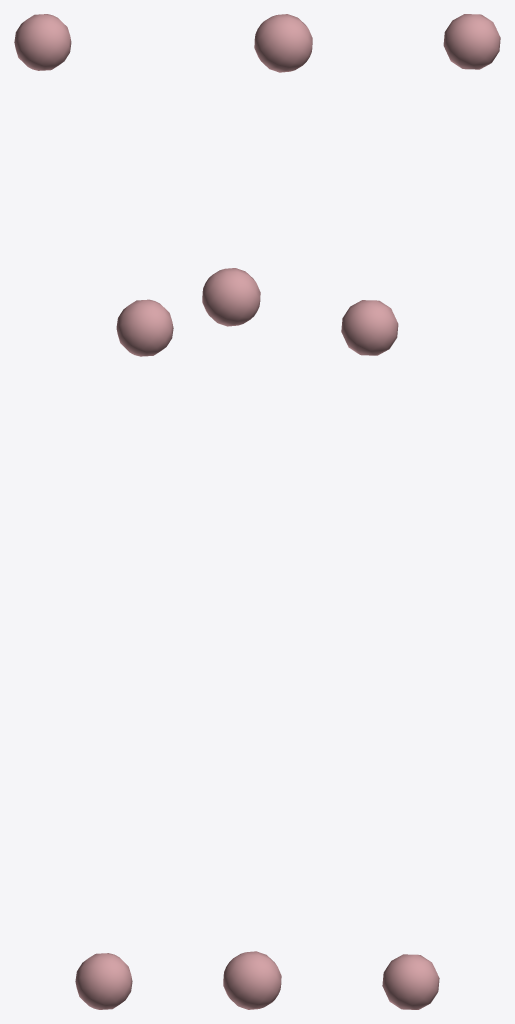
3 views of the same model, side by side, from view 1: azimuth 90°, elevation 25°; view 2: azimuth 210°, elevation 25°; view 3: azimuth 270°, elevation 25° (orthographic). The views are drawn at different scales.
Parts seen in each view (by area): view 1: ZA_265199931a3d6b9c; view 2: ZA_265199931a3d6b9c; view 3: ZA_265199931a3d6b9c.
Part boxes in pixels (left/top/right/bottom): ZA_265199931a3d6b9c: left=14, top=14, right=173, bottom=1009; ZA_265199931a3d6b9c: left=202, top=14, right=312, bottom=1009; ZA_265199931a3d6b9c: left=341, top=14, right=500, bottom=1009.
Bounding box in the file's own units: 0.00257 × 0.049 × 0.00714.
